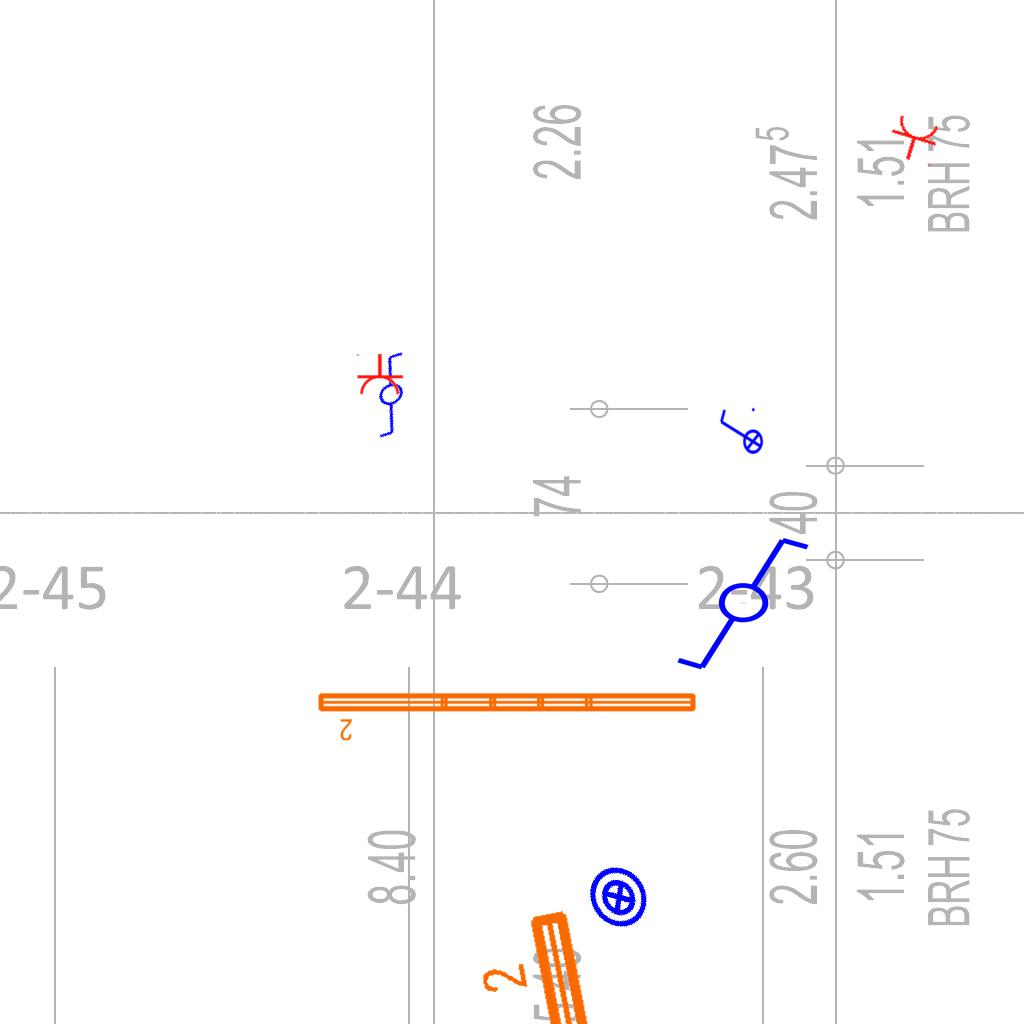Ambulanz_Pendelleuchte_LED: (466, 899, 724, 1024), (314, 687, 701, 743)
Ausschalter_beleuchtet: (716, 405, 764, 461)
Schukosteckdose_einfach: (884, 112, 945, 168), (354, 353, 404, 396)
Taster_beleuchtet: (573, 851, 665, 943)
Wechselschalter: (673, 533, 830, 677), (342, 341, 448, 445)
